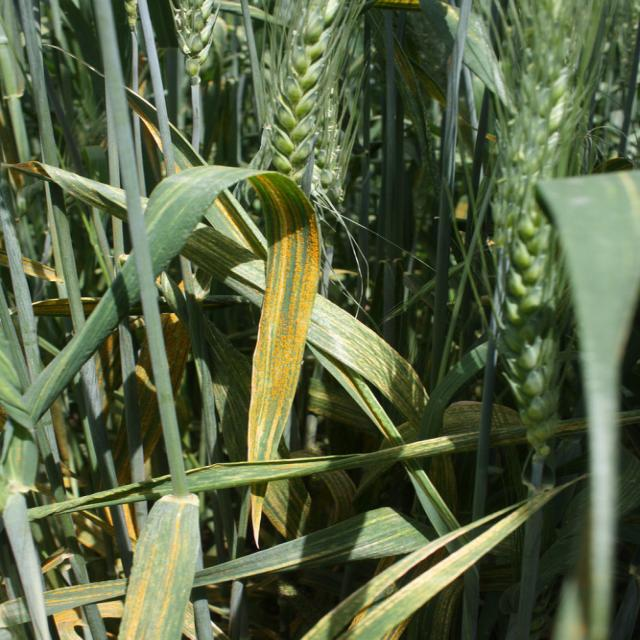wheat-yellowrust: (304, 492, 554, 640), (246, 174, 320, 464), (192, 508, 430, 588), (184, 433, 470, 495), (116, 494, 204, 640), (61, 476, 172, 513), (42, 579, 129, 615)
